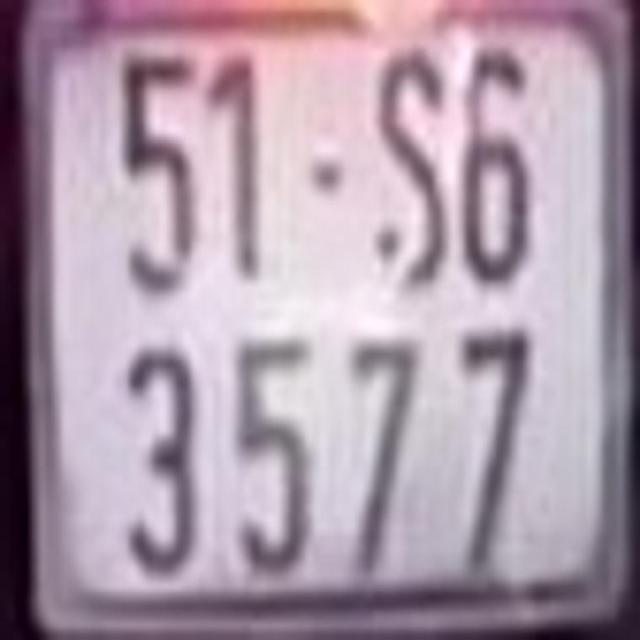1: (208, 52, 262, 278)
3: (125, 350, 198, 574)
5: (116, 51, 200, 295), (240, 338, 308, 577)
6: (466, 44, 529, 279)
7: (461, 330, 534, 562), (352, 340, 414, 570)
S: (371, 48, 449, 283)
